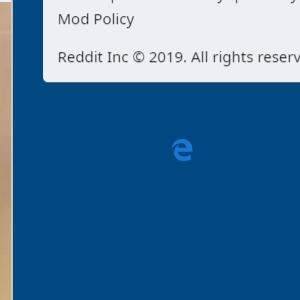edge: (171, 138, 193, 162)
